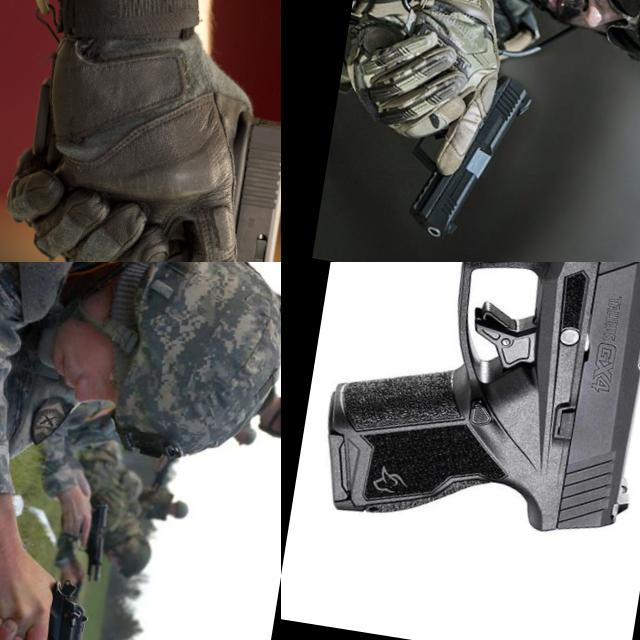handgun: (311, 262, 640, 559), (113, 96, 281, 262), (398, 59, 536, 254), (0, 570, 99, 640), (72, 498, 112, 584)
